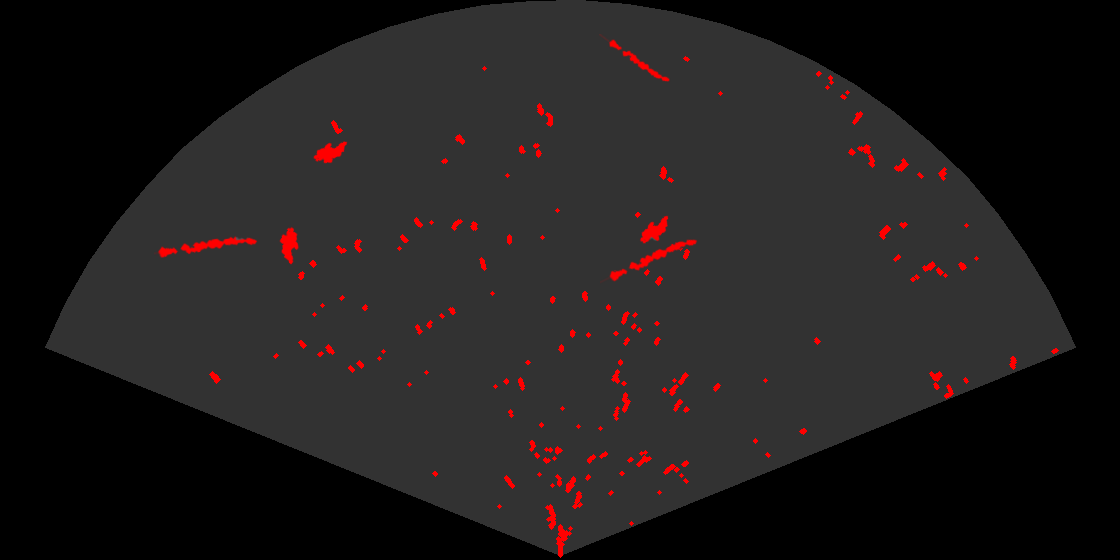AUV: (638, 214, 670, 245), (312, 140, 349, 165), (278, 225, 300, 266)
chain: (600, 238, 699, 285), (599, 34, 671, 83), (154, 234, 259, 259)
